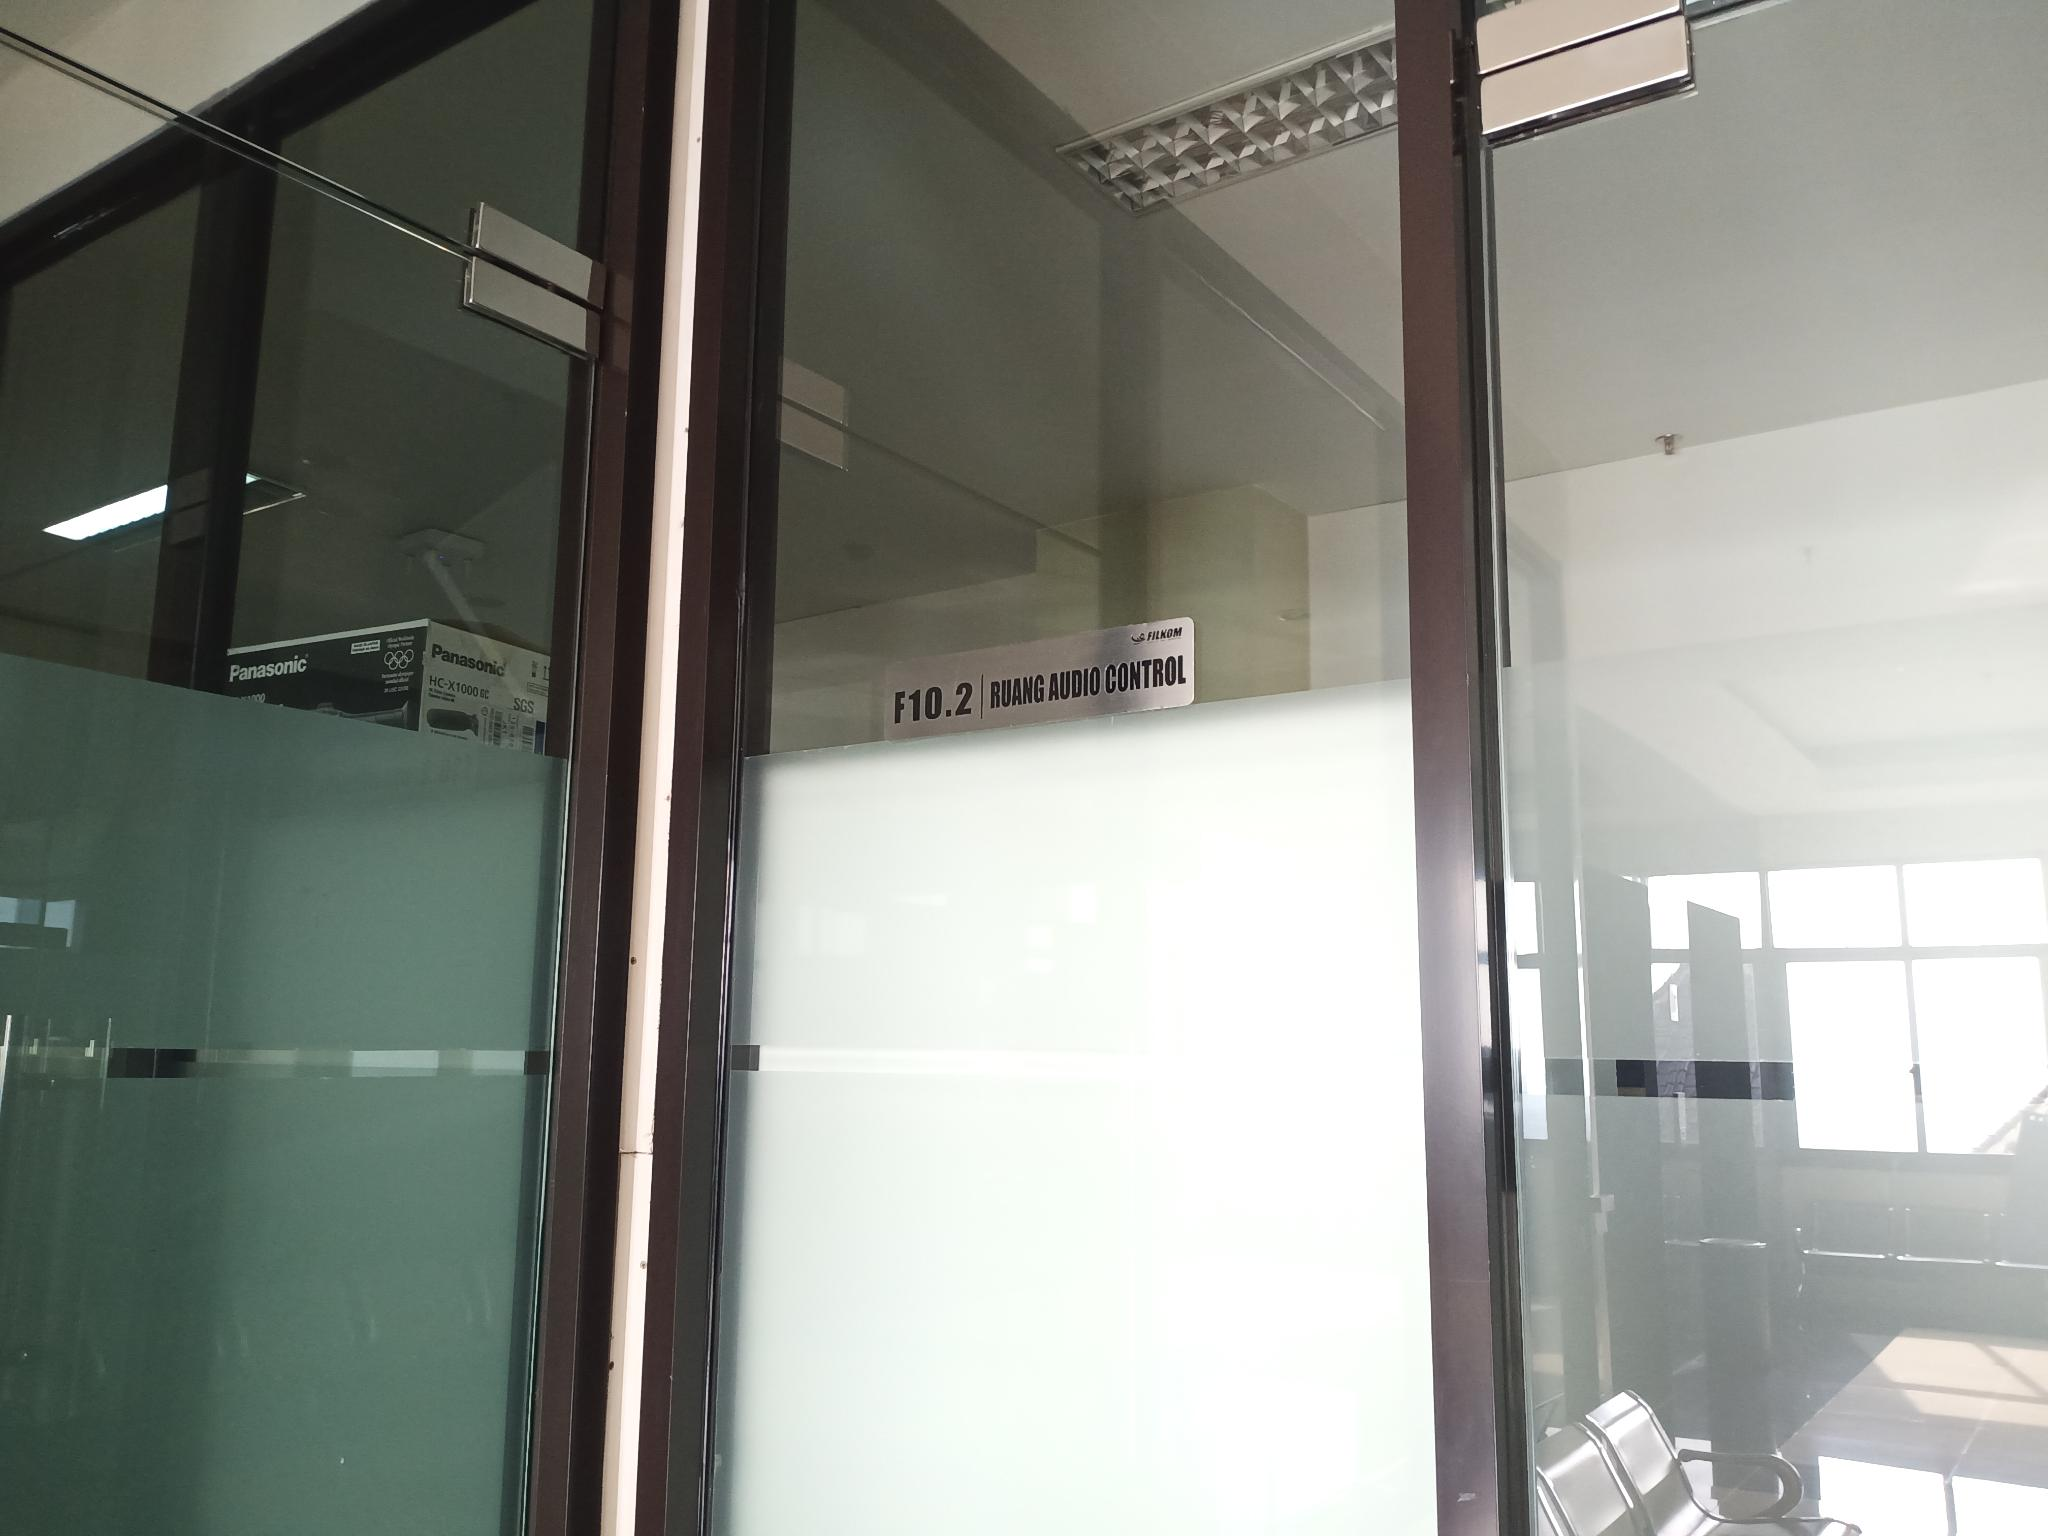plate: (876, 613, 1197, 744)
